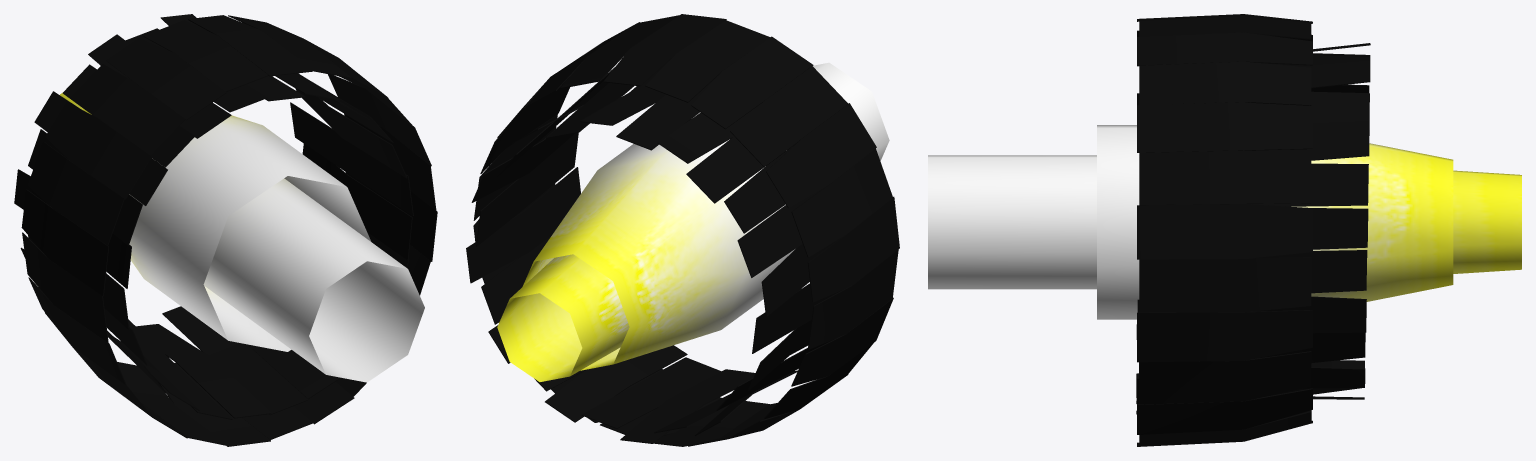
File: Co27-3_nozzle.FBX
The picture shows the model from 3 angles, left to right: view 1: azimuth 30°, elevation 25°; view 2: azimuth 150°, elevation 25°; view 3: azimuth 270°, elevation 25°; orthographic projection. The views are drawn at different scales.
Visible parts, largest first — view 1: exhaust_outer_1, Engine_afterburner_1, exhaust_inner_1; view 2: exhaust_outer_1, exhaust_inner_1, Engine_afterburner_1; view 3: exhaust_outer_1, Engine_afterburner_1, exhaust_inner_1.
Boxes of the visible parts, <box> form: exhaust_outer_1: <box>21,15,437,446</box>; Engine_afterburner_1: <box>60,93,424,382</box>; exhaust_inner_1: <box>14,14,413,419</box>; exhaust_outer_1: <box>473,14,899,446</box>; exhaust_inner_1: <box>466,61,845,443</box>; Engine_afterburner_1: <box>497,62,889,381</box>; exhaust_outer_1: <box>1137,14,1312,446</box>; Engine_afterburner_1: <box>928,125,1521,319</box>; exhaust_inner_1: <box>1136,43,1370,414</box>.
Size of the model in its own units: 79.82 by 82.63 by 113.
